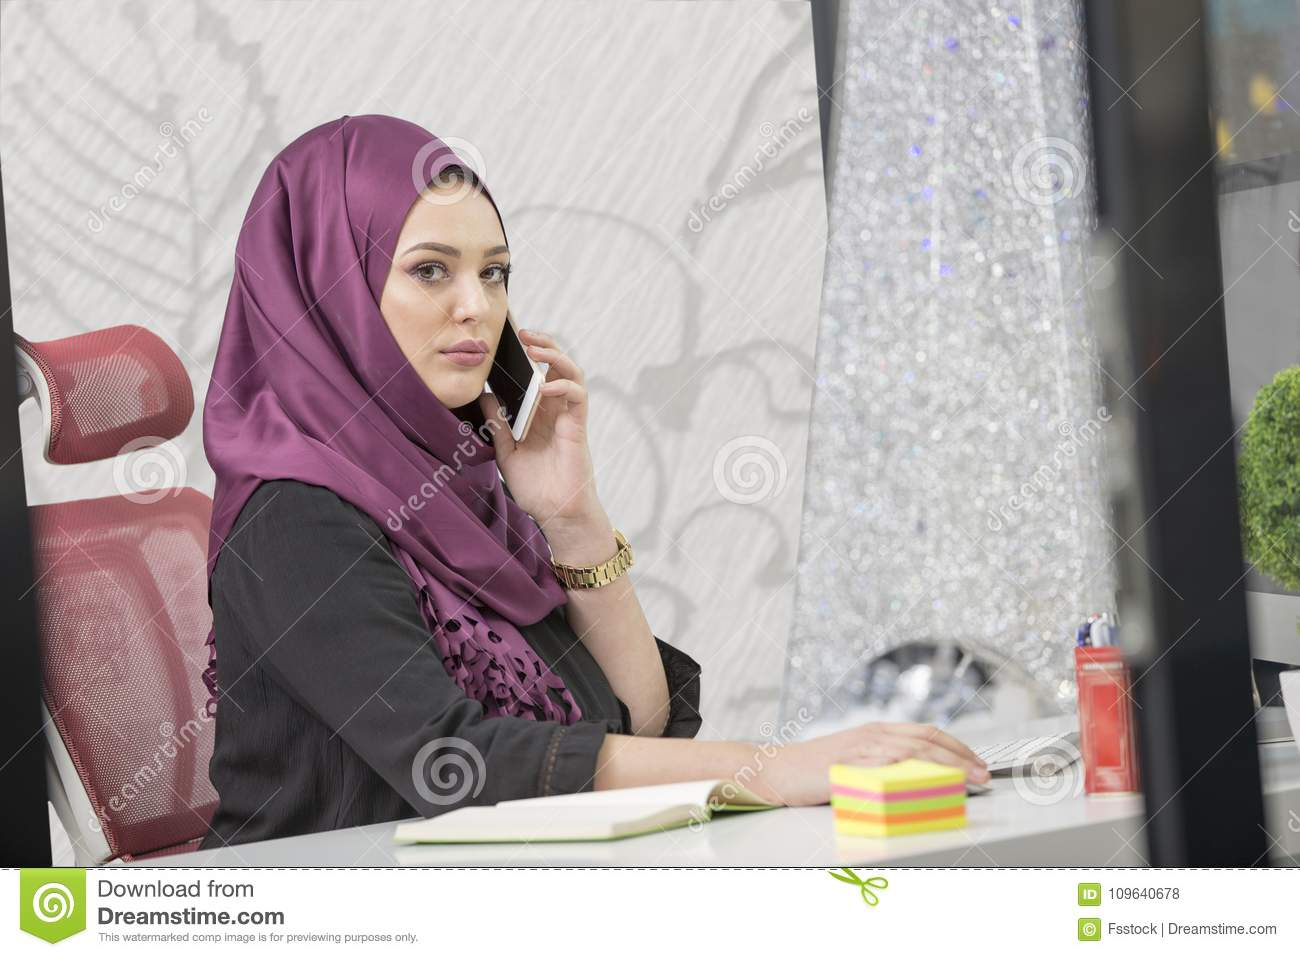phone: (486, 310, 544, 443)
talk: (395, 235, 601, 549)
